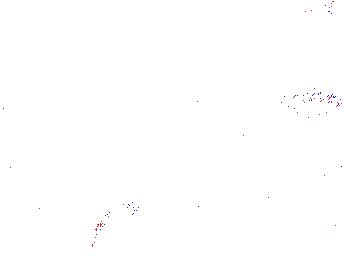glassfish: (238, 92, 343, 128), (83, 194, 147, 243)
redtail glassfish: (282, 1, 338, 17)
